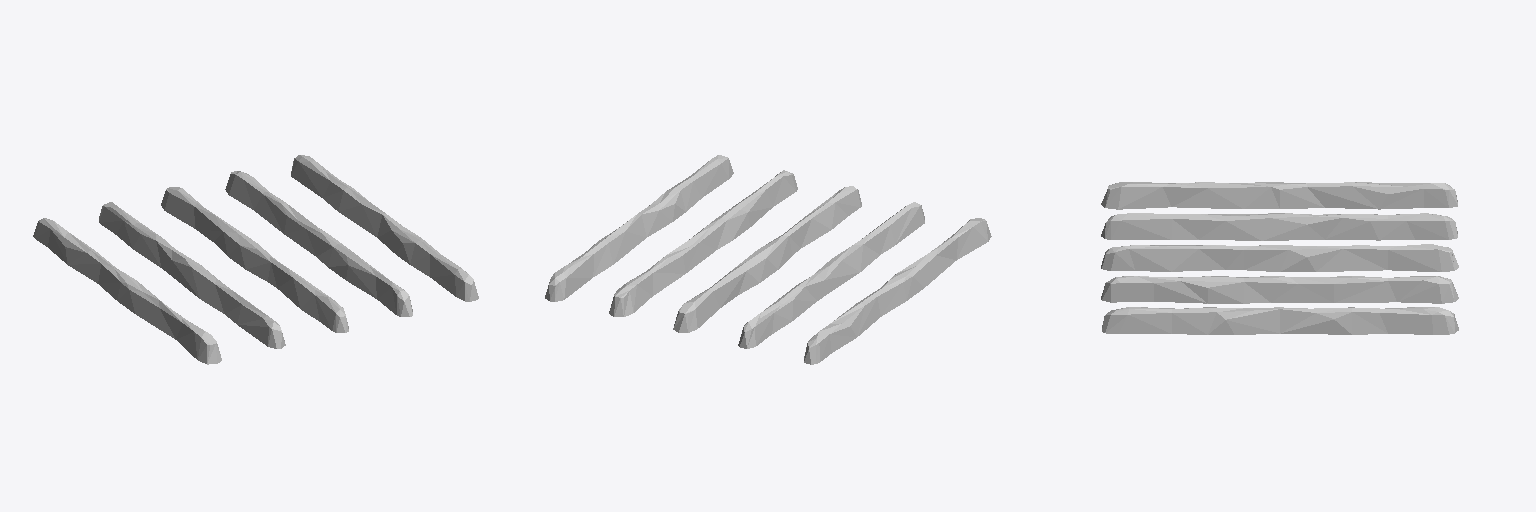
The model's file is SM_Env_Vege_Rows_01.obj.
3 renders of one model, left to right at view 1: azimuth 30°, elevation 25°; view 2: azimuth 150°, elevation 25°; view 3: azimuth 270°, elevation 25°, orthographic.
Bounding box in the file's own units: 432 × 33.52 × 482.